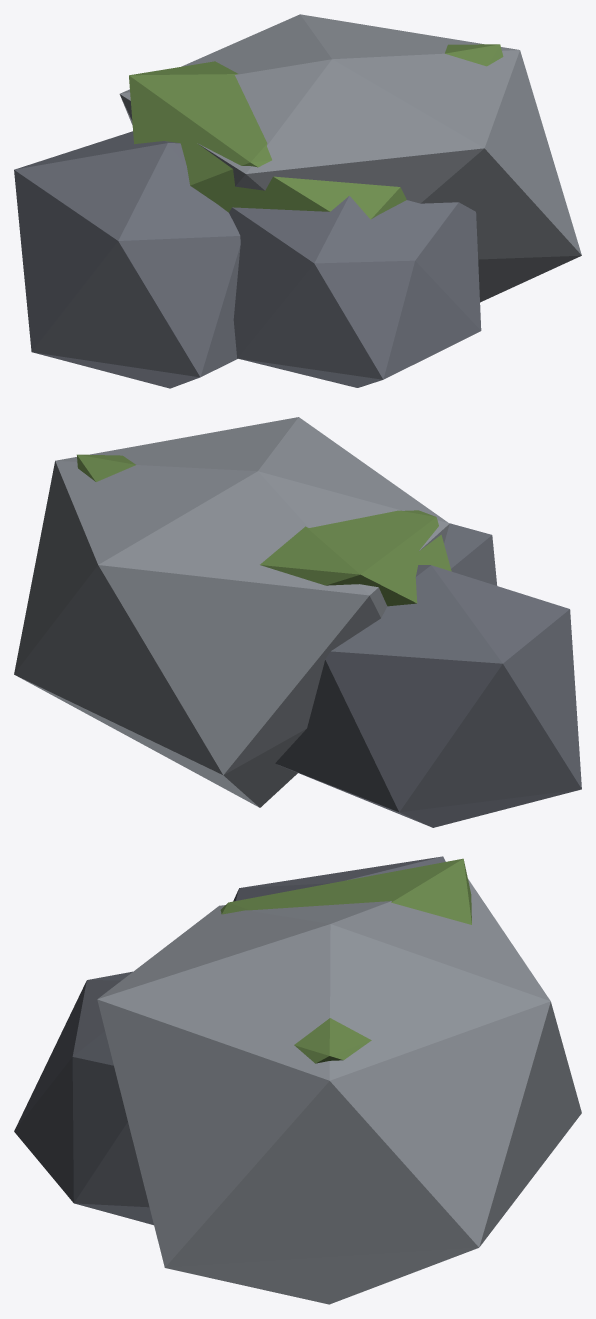
Rendered from jungle_rock_b.glb.
3 views of the same model, one above another, from view 1: azimuth 30°, elevation 25°; view 2: azimuth 150°, elevation 25°; view 3: azimuth 270°, elevation 25° (orthographic). The views are drawn at different scales.
Visible parts, largest first — view 1: jungle_rock_b; view 2: jungle_rock_b; view 3: jungle_rock_b.
Part boxes in pixels (x1=…): jungle_rock_b: x1=14, y1=14, x2=581, y2=388; jungle_rock_b: x1=14, y1=417, x2=581, y2=827; jungle_rock_b: x1=14, y1=856, x2=581, y2=1304.
Size of the model in its own units: 6.24 by 3.81 by 5.14.
